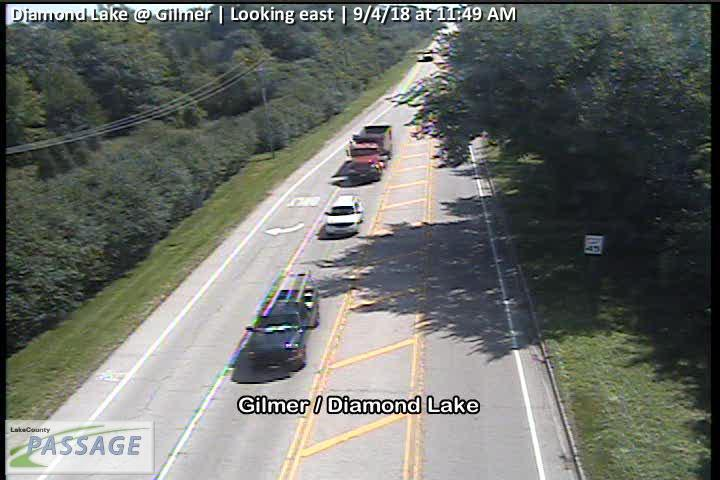SUV: (324, 195, 365, 235)
Truck: (245, 272, 319, 371), (346, 125, 393, 183)
